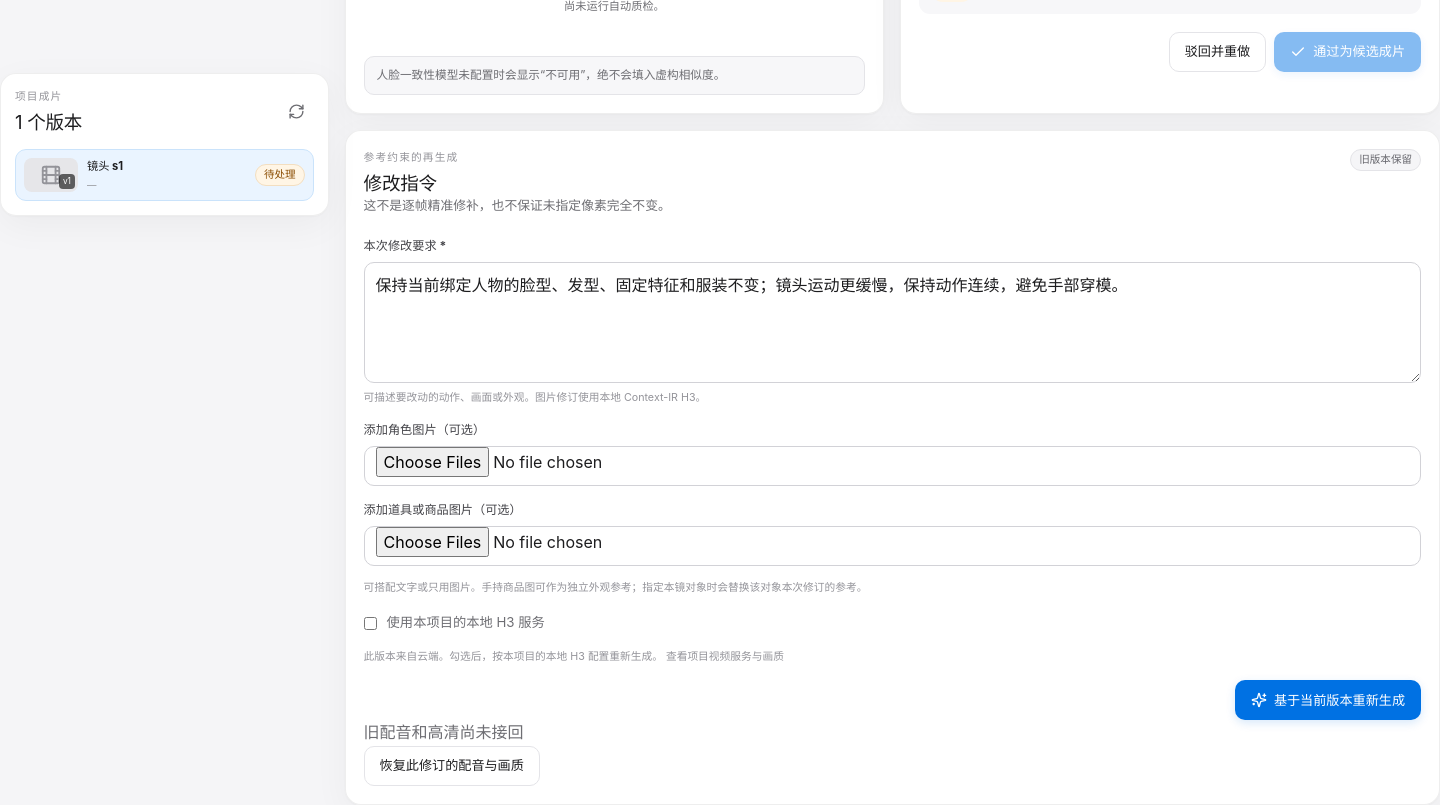
Test case: loads the legacy recovery diagnosis from selected-video details and resumes only postprocessing
(page scrolled)
Expected: the button "通过为候选成片" is disabled, [1274,32,1421,72]
Step 1. Click the button "恢复此修订的配音与画质" → [452, 766], box [364,746,540,786]
(page scrolled)
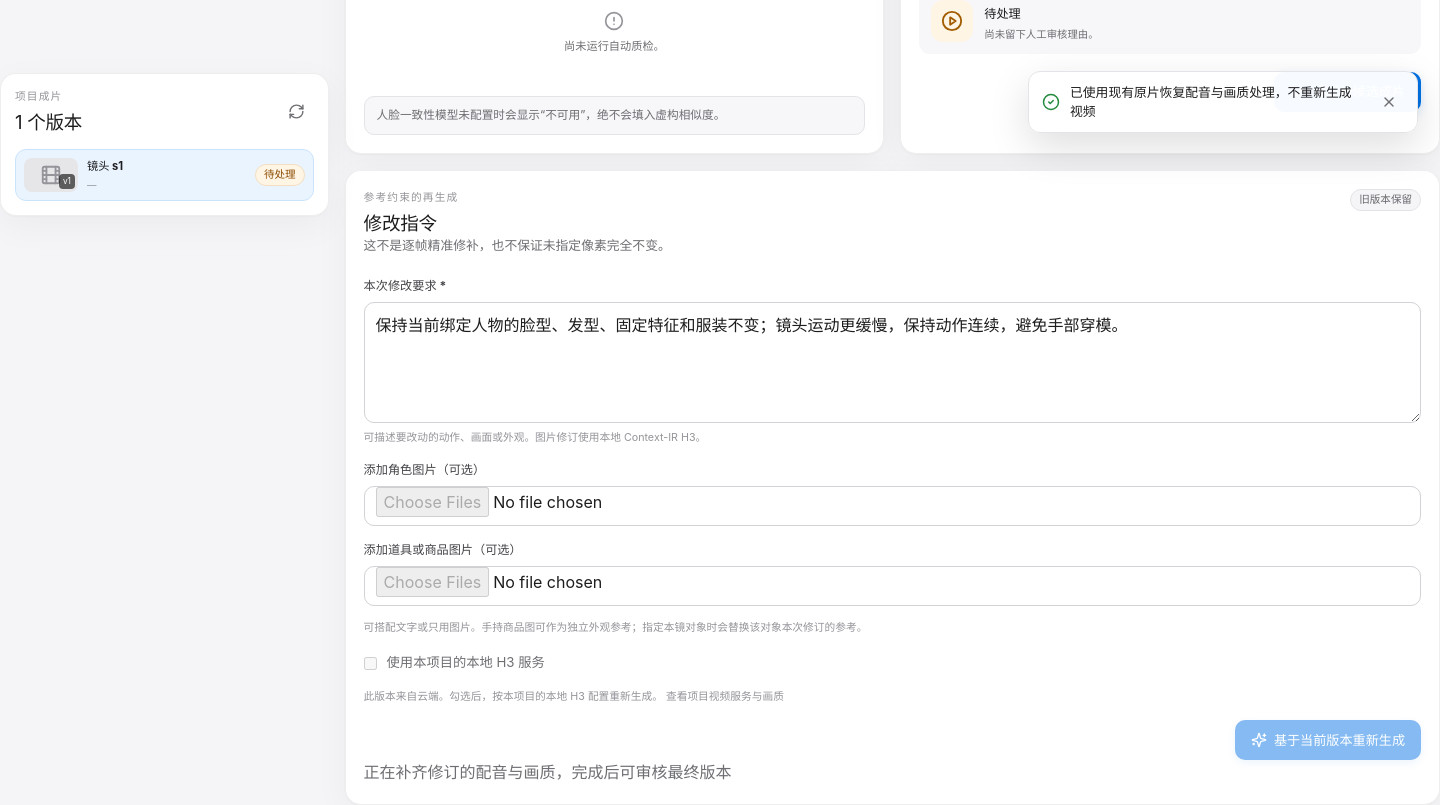
Now the text "正在补齐修订的配音与画质，完成后可审核最终版本" is shown, box [364,762,732,782]
